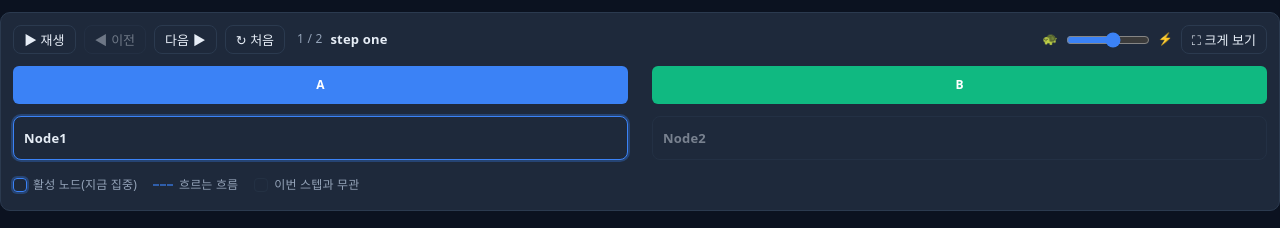
it: FlowPlayer › restart returns to step 1
Click the button "다음 ▶" at coordinates (185, 40), box [154, 25, 217, 54]
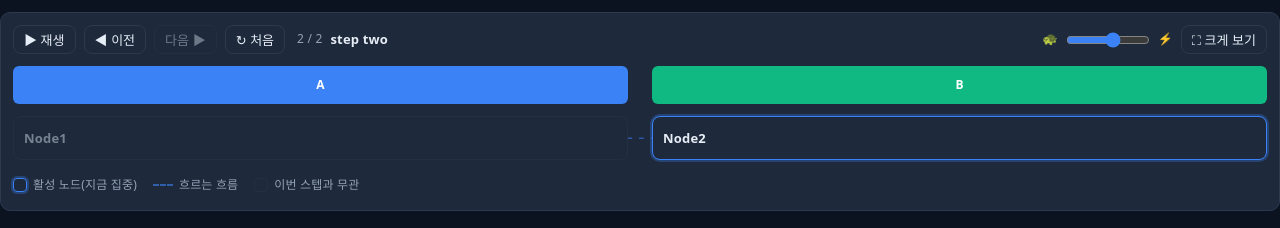
Click the button "↻ 처음" at coordinates (255, 40), box [225, 25, 285, 54]
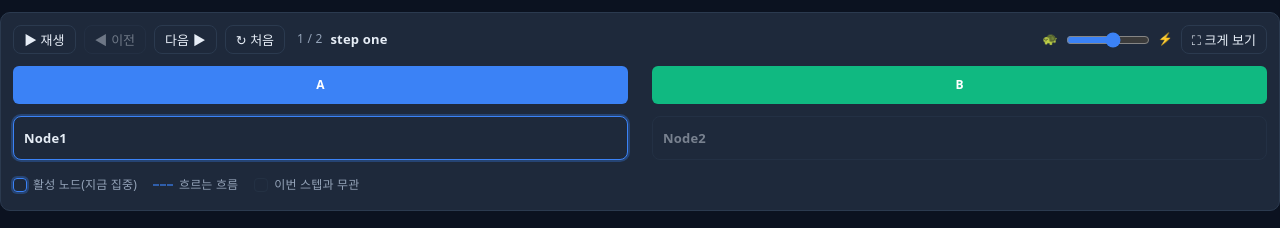
Check: the text with class "fp-counter" reads "1 / 2", box [297, 26, 322, 53]
